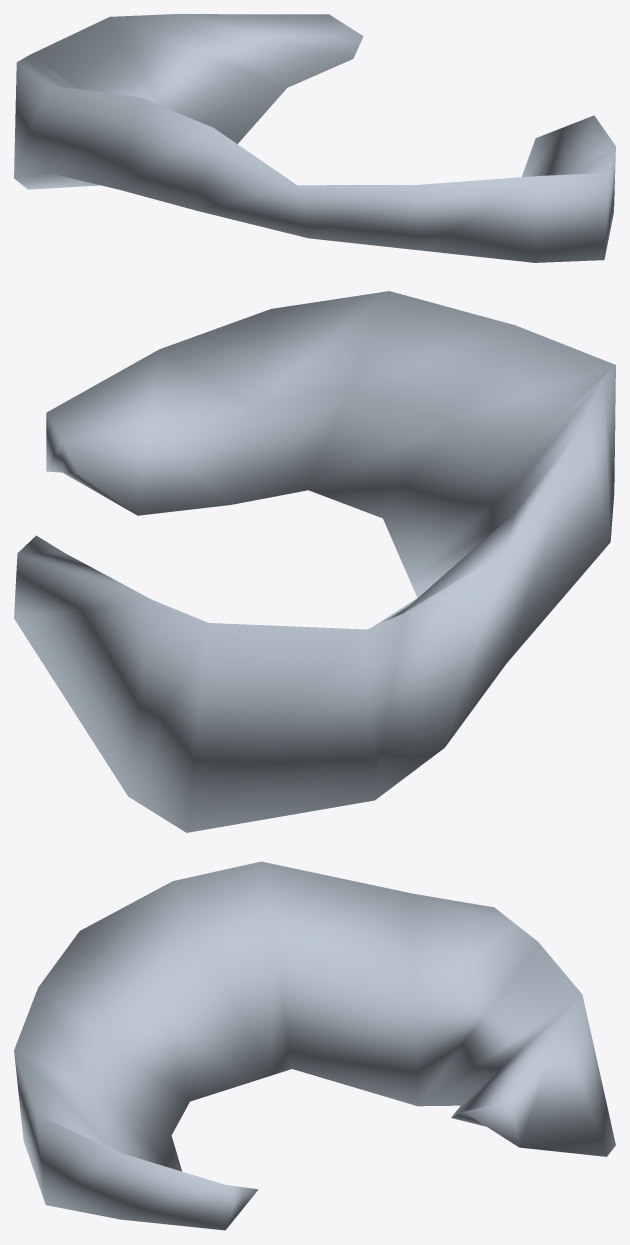
File: lateral-meniscus-r.glb
The picture shows the model from 3 angles, top to bottom: view 1: azimuth 30°, elevation 25°; view 2: azimuth 150°, elevation 25°; view 3: azimuth 270°, elevation 25°; orthographic projection. The views are drawn at different scales.
Visible parts, largest first — view 1: Lateral meniscus.r; view 2: Lateral meniscus.r; view 3: Lateral meniscus.r.
Boxes of the visible parts, left/top/right/bottom form: Lateral meniscus.r: left=14, top=14, right=615, bottom=262; Lateral meniscus.r: left=14, top=291, right=615, bottom=832; Lateral meniscus.r: left=14, top=861, right=615, bottom=1230.
Size of the model in its own units: 0.0348 by 0.016 by 0.0398.
